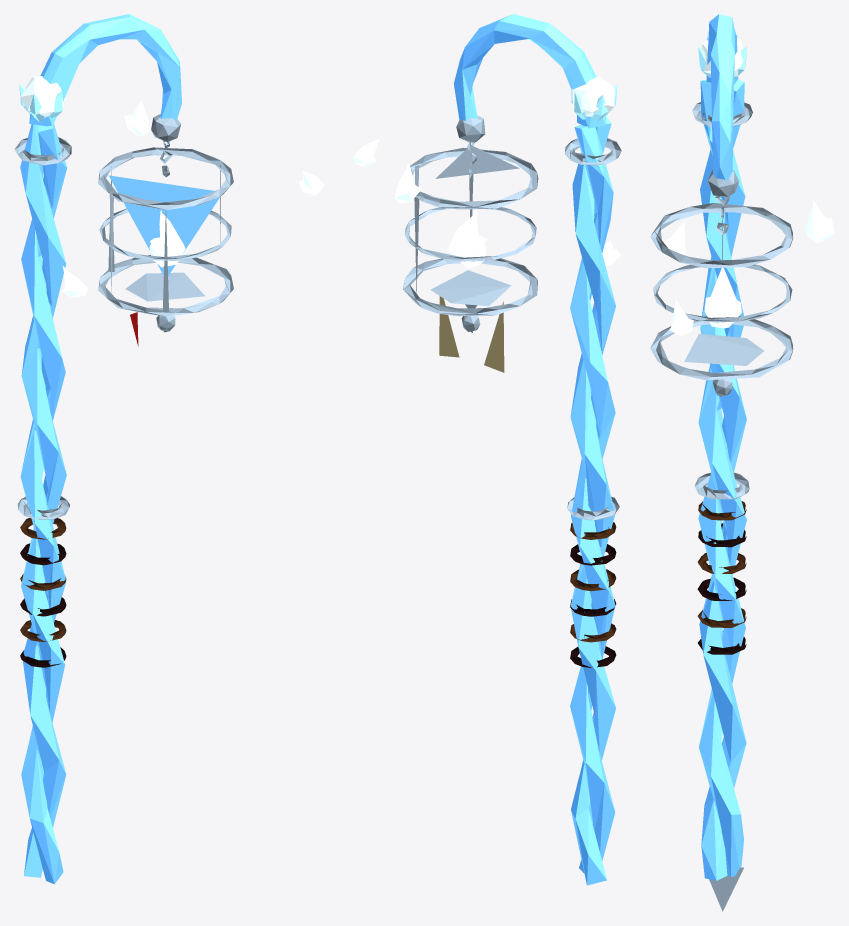
Rendered from lantern_5.glb.
The picture shows the model from 3 angles, left to right: view 1: azimuth 30°, elevation 25°; view 2: azimuth 150°, elevation 25°; view 3: azimuth 270°, elevation 25°; orthographic projection. The views are drawn at different scales.
Parts seen in each view (by area): view 1: Staff__002, Staff__001, Staff__003, Lantern__016, Lantern__023, Lantern__024, Lantern__027, Lantern__025, Staff__014, Staff__011, Flame__029; view 2: Staff__001, Staff__002, Staff__003, Lantern__024, Lantern__023, Lantern__027, Lantern__026, Lantern__025, Staff__014, Flame__029, Staff__011, Tags__031 (+3 smaller); view 3: Staff__002, Staff__001, Staff__003, Lantern__023, Lantern__024, Lantern__027, Lantern__025, Flame__029, Orbit__039, Staff__012, Staff__013, Staff__004 (+6 smaller).
Part boxes in pixels (bbox=[...]): Staff__002: bbox=[20, 124, 66, 884]; Staff__001: bbox=[20, 124, 67, 877]; Staff__003: bbox=[29, 14, 181, 126]; Lantern__016: bbox=[108, 175, 219, 276]; Lantern__023: bbox=[98, 147, 233, 209]; Lantern__024: bbox=[98, 255, 233, 316]; Lantern__027: bbox=[125, 272, 204, 301]; Lantern__025: bbox=[99, 208, 231, 260]; Staff__014: bbox=[20, 76, 65, 117]; Staff__011: bbox=[14, 137, 71, 165]; Flame__029: bbox=[150, 210, 190, 255]; Staff__001: bbox=[570, 116, 615, 885]; Staff__002: bbox=[570, 124, 615, 873]; Staff__003: bbox=[454, 14, 606, 128]; Lantern__024: bbox=[403, 256, 537, 316]; Lantern__023: bbox=[410, 147, 538, 209]; Lantern__027: bbox=[430, 270, 511, 306]; Lantern__026: bbox=[435, 145, 519, 178]; Lantern__025: bbox=[404, 207, 536, 261]; Staff__014: bbox=[572, 76, 614, 116]; Flame__029: bbox=[447, 210, 487, 256]; Staff__011: bbox=[565, 138, 621, 165]; Tags__031: bbox=[484, 301, 504, 372]; Staff__002: bbox=[698, 79, 746, 880]; Staff__001: bbox=[698, 79, 746, 876]; Staff__003: bbox=[706, 14, 738, 180]; Lantern__023: bbox=[650, 203, 793, 268]; Lantern__024: bbox=[650, 316, 793, 380]; Lantern__027: bbox=[684, 333, 763, 365]; Lantern__025: bbox=[653, 264, 792, 322]; Flame__029: bbox=[704, 267, 741, 317]; Orbit__039: bbox=[805, 201, 834, 243]; Staff__012: bbox=[694, 472, 749, 499]; Staff__013: bbox=[709, 867, 743, 911]; Staff__004: bbox=[707, 170, 738, 196].
Size of the model in its own units: 0.4182 by 1.23 by 0.2236.
